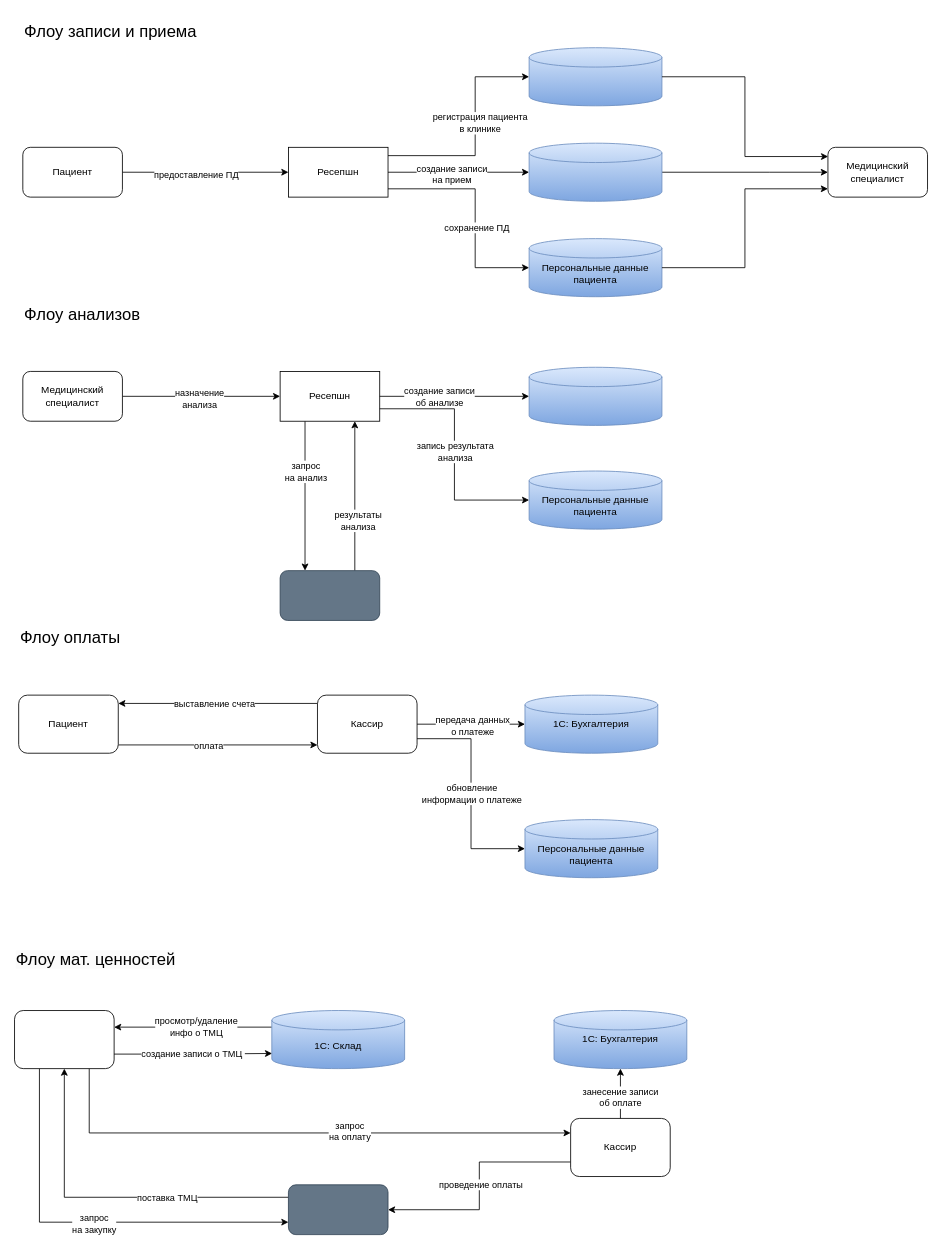
Some shapes in this 942 by 1249 pixel diagram are drawn without their labels. Each missing label, with the centre of its shape:
"Журнал записей и приемов" goes at [595,171].
"Журнал учета анализов" goes at [595,395].
"Журнал учета пациентов" goes at [595,76].
"Лаборатория" goes at [329,595].
"Поставщик" goes at [338,1209].
"Сотрудник склада" goes at [64,1039].
